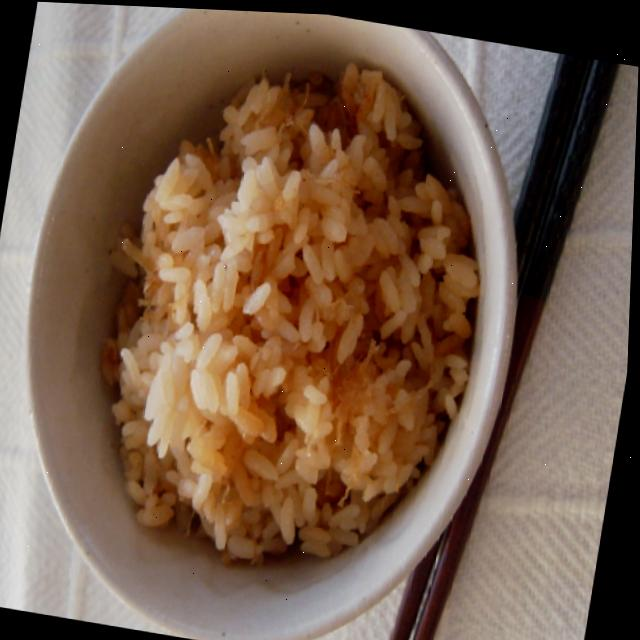米饭主食: (64, 46, 514, 575)
